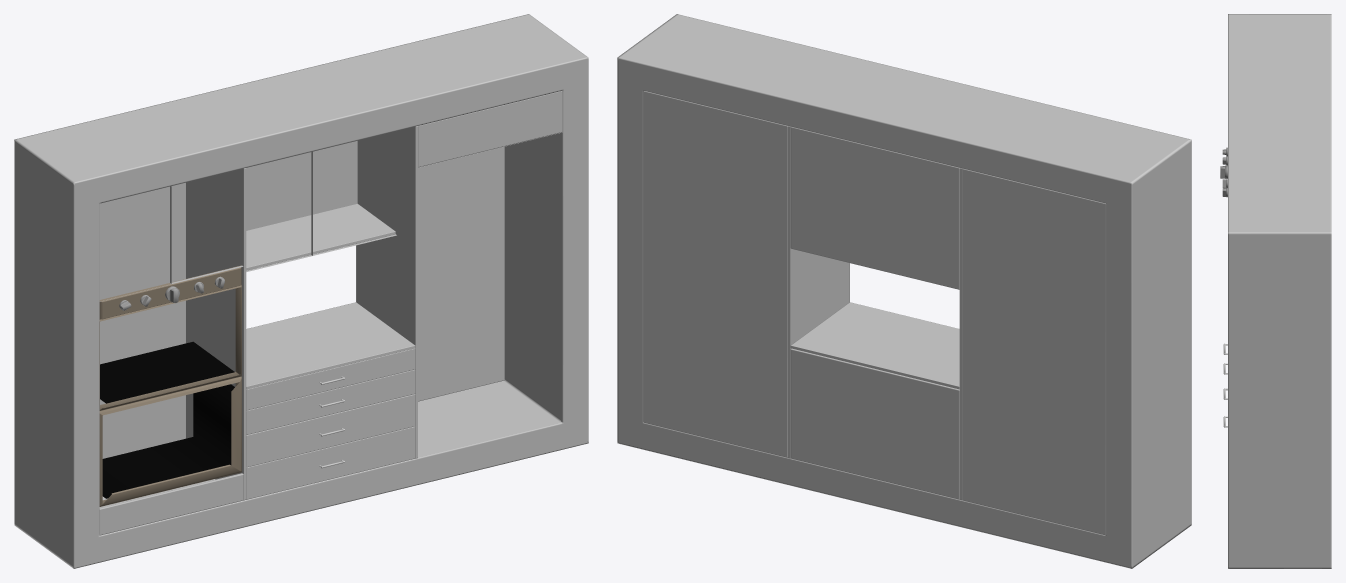
Rendered from 405Main3.obj.
The picture shows the model from 3 angles, left to right: view 1: azimuth 30°, elevation 25°; view 2: azimuth 150°, elevation 25°; view 3: azimuth 270°, elevation 25°; orthographic projection. The views are drawn at different scales.
Parts seen in each view (by area): view 1: 405; view 2: 405; view 3: 405.
Boxes of the visible parts, x1,y1,x2,y2 form: 405: (14, 14, 588, 568); 405: (617, 14, 1191, 568); 405: (1220, 14, 1331, 568).
Bounding box in the file's own units: 3 × 2.15 × 0.6454.
